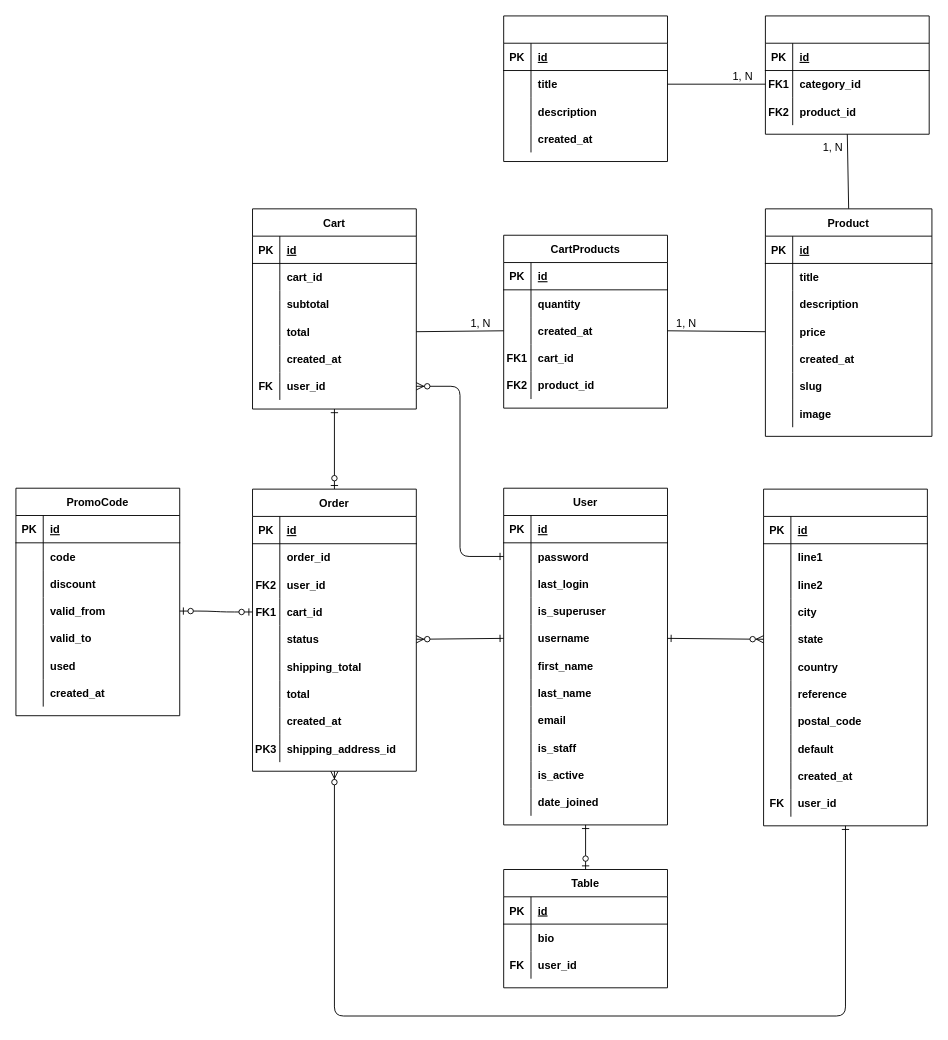
Some shapes in this 948 by 1040 pixel diagram are drawn without their labels. The box of each missing label's shape, as (x1, y1, x2, y2) in pixels:
Category: (503, 15, 667, 162)
Category_products: (764, 15, 929, 134)
ShippingAddress: (763, 488, 927, 826)
